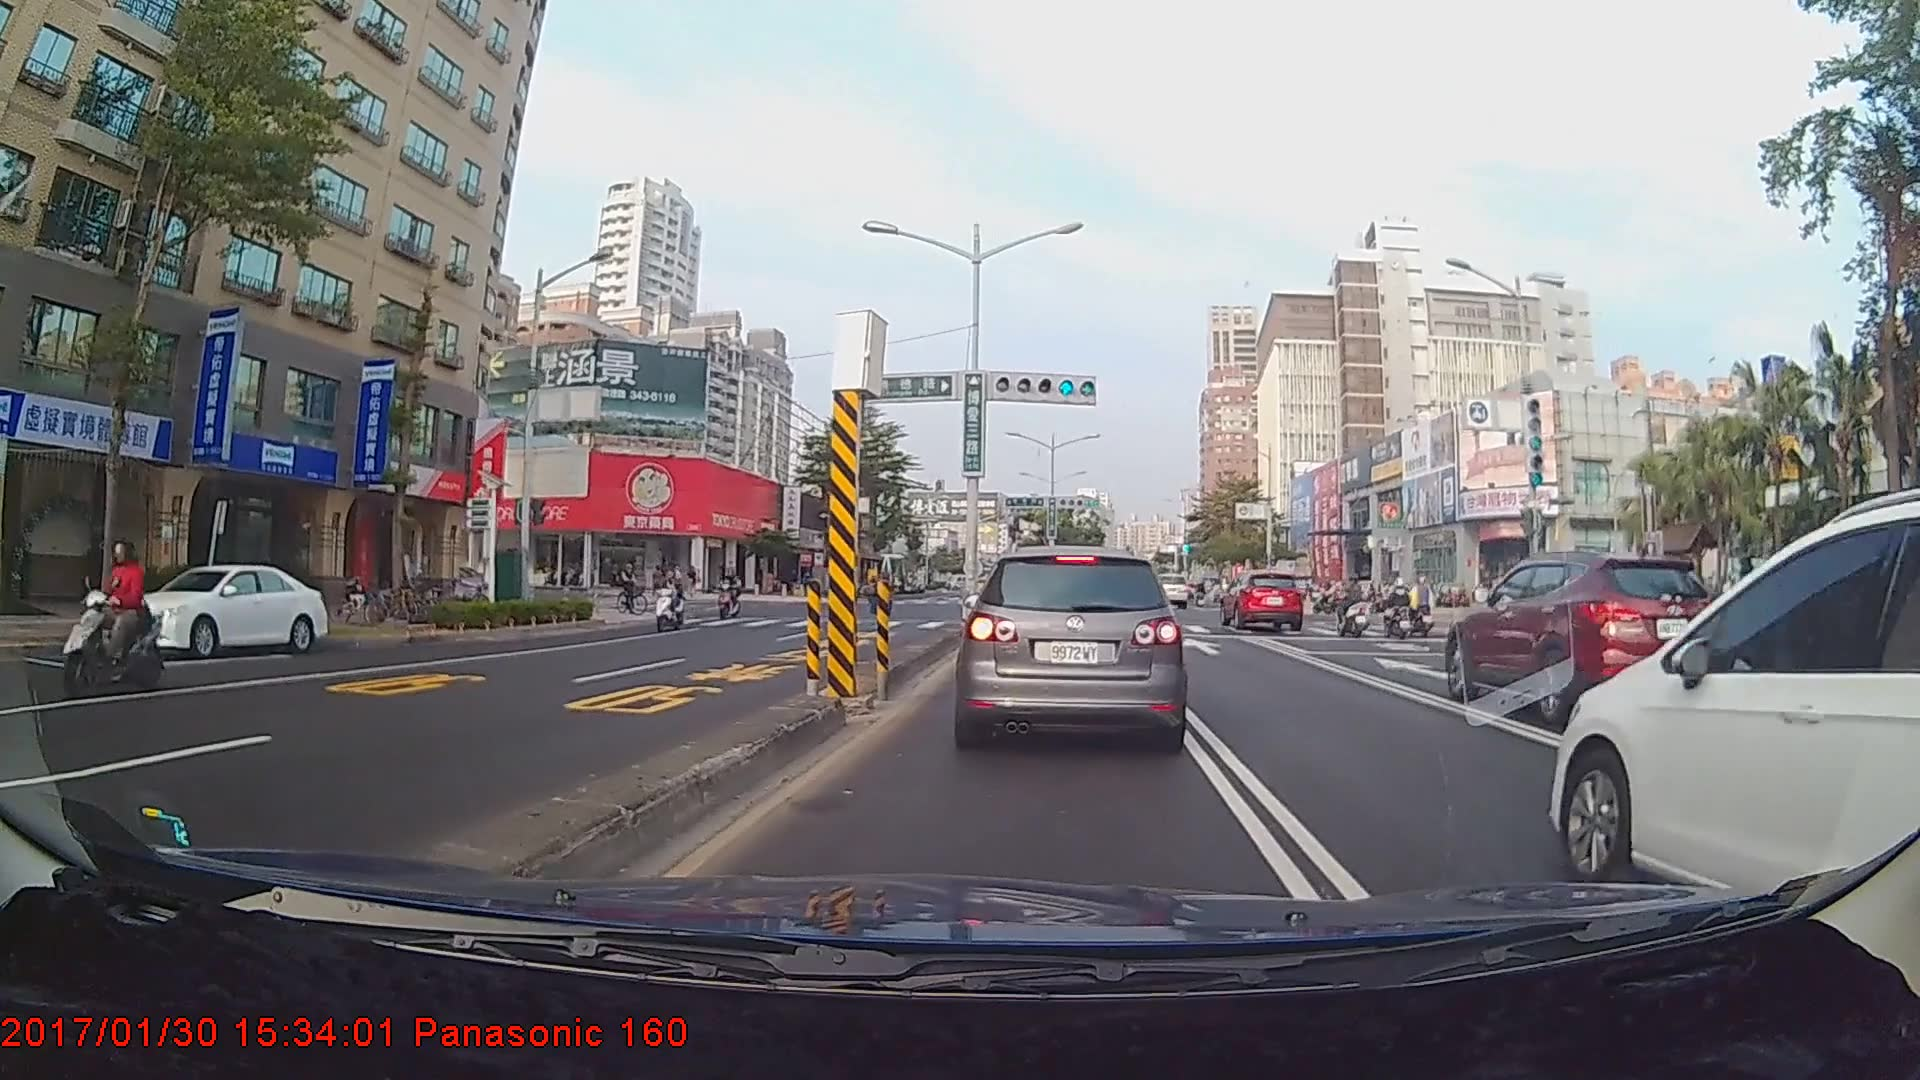rider: (47, 538, 168, 698), (1327, 574, 1380, 642), (1375, 577, 1424, 641), (652, 566, 692, 638), (616, 559, 654, 623), (721, 568, 750, 624)
vehicle: (1548, 506, 1920, 884), (1444, 550, 1732, 719), (962, 544, 1184, 747), (116, 561, 326, 658), (1222, 569, 1305, 631), (1151, 571, 1188, 609)
